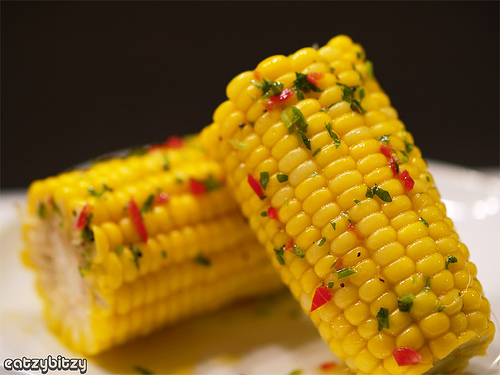corn: (200, 35, 497, 374), (17, 109, 290, 363)
